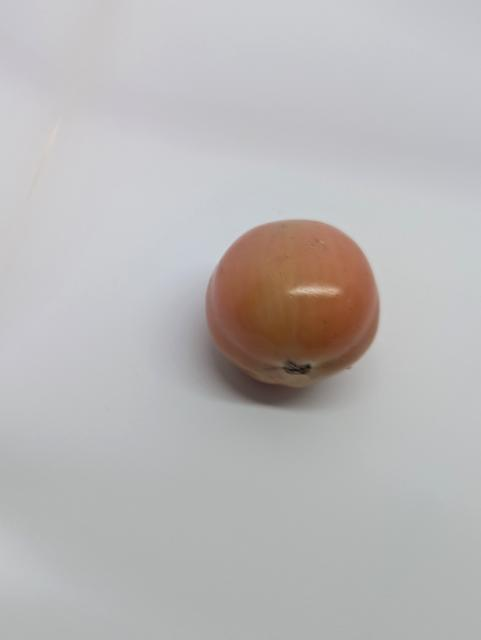turning: (198, 210, 387, 398)
